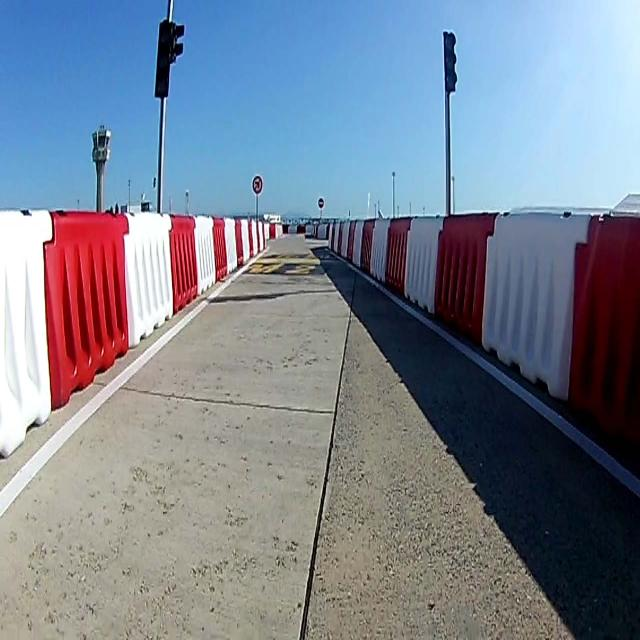soladonulmez: (252, 176, 262, 194)
